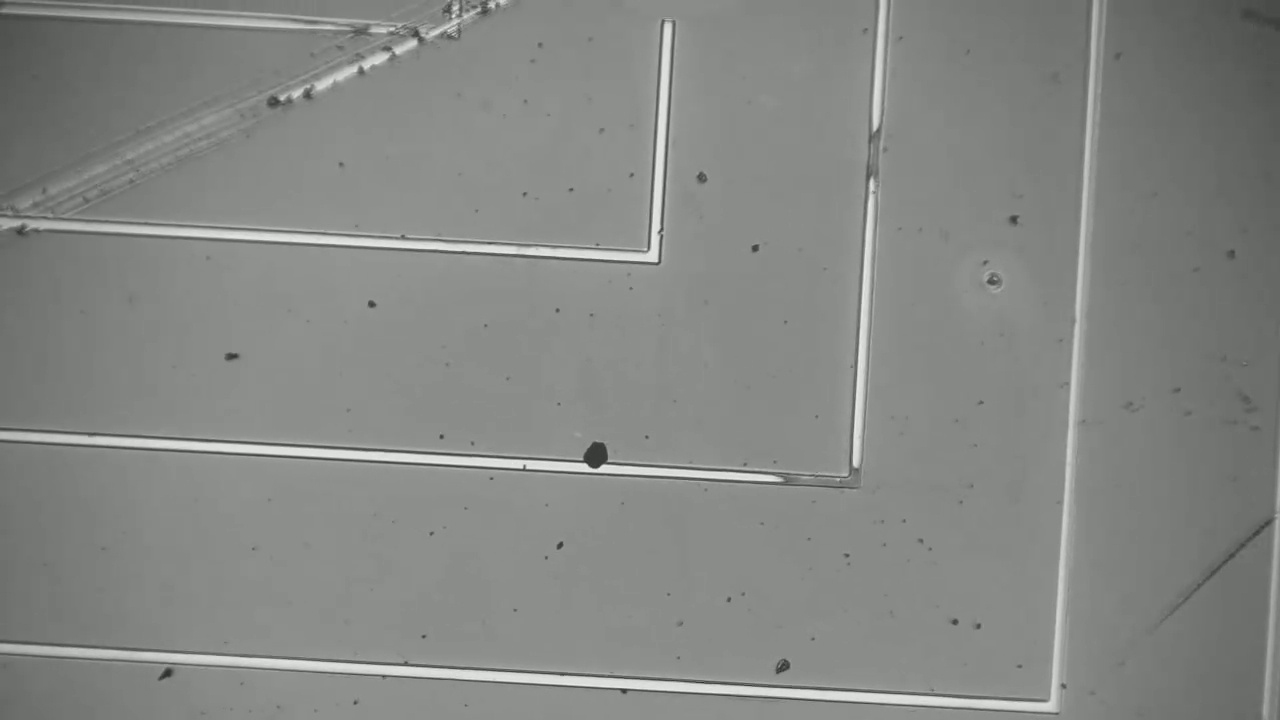edge_bite: (638, 222, 670, 241)
gray_line: (848, 108, 899, 203), (764, 465, 873, 494), (841, 455, 868, 499)
scratch: (6, 8, 500, 225), (1128, 523, 1273, 649)
stains_enbedded: (573, 434, 614, 485)
